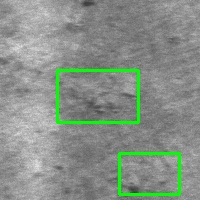rolled-in_scale: (57, 70, 138, 122), (119, 153, 179, 194)
